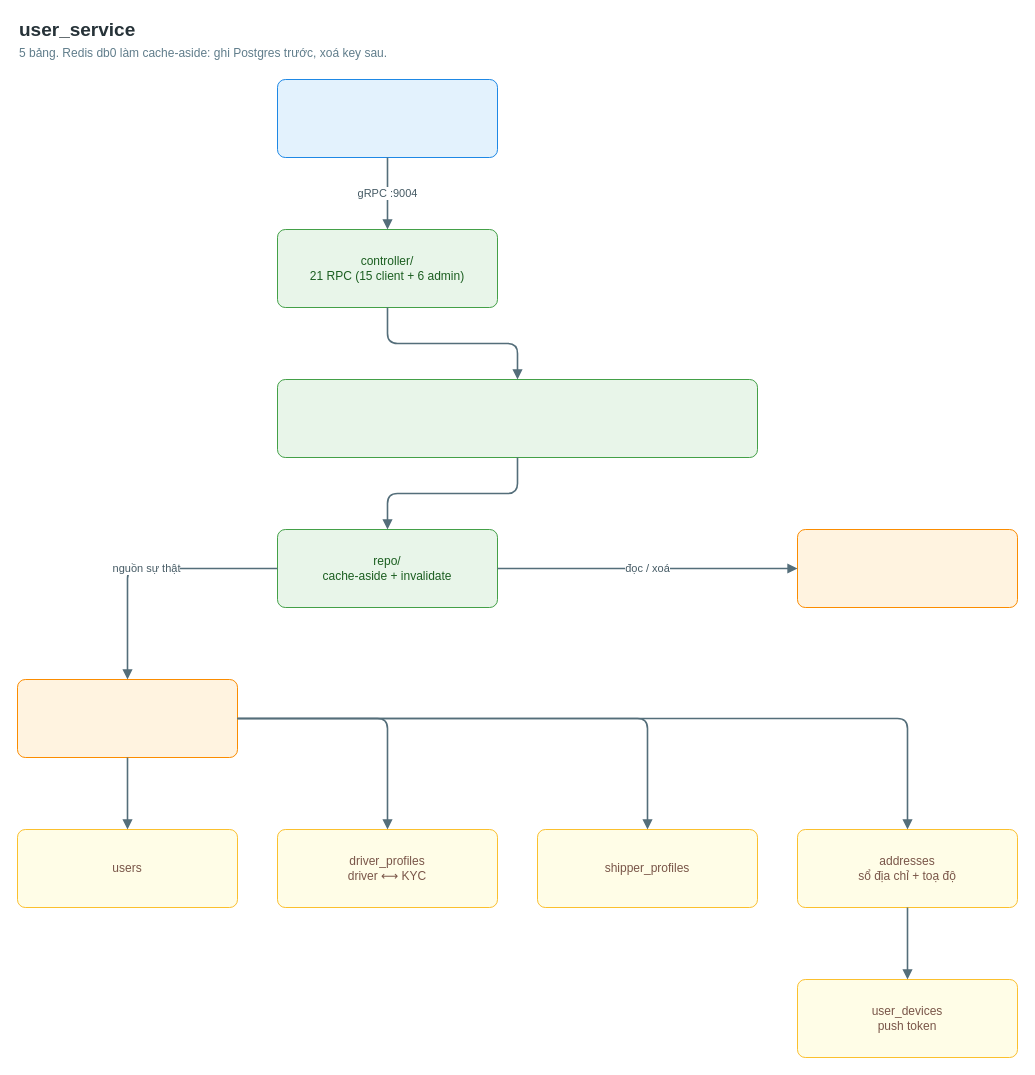
Image size: 1035x1075. Some labels were removed from this diagram. Here are the shapes that lost their labels. From the top down, the box of each, then its label:
(276, 78, 498, 158): gateway_service
(276, 378, 758, 458): biz/ mustBeRole · địa chỉ mặc định duy nhất · chặn duyệt KYC hai lần
(796, 528, 1018, 608): Redis db0 prefix "user"
(16, 678, 238, 758): Postgres master + slave
